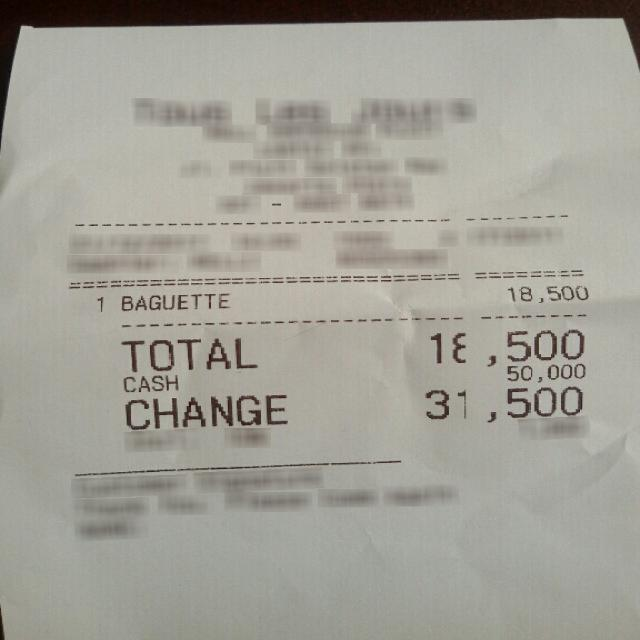kertas: (4, 21, 638, 640)
